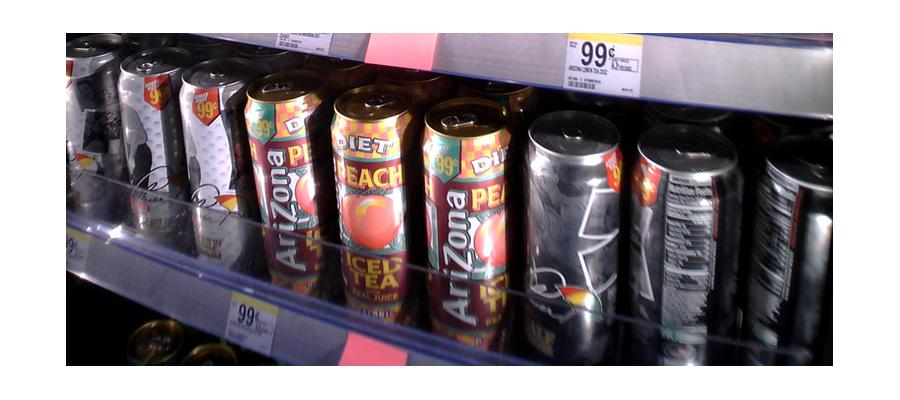bottle: (632, 136, 739, 371), (416, 99, 512, 344), (524, 115, 620, 357), (332, 83, 411, 325), (245, 75, 323, 293), (755, 149, 831, 356), (178, 60, 245, 277), (121, 51, 180, 246), (67, 36, 118, 228)
